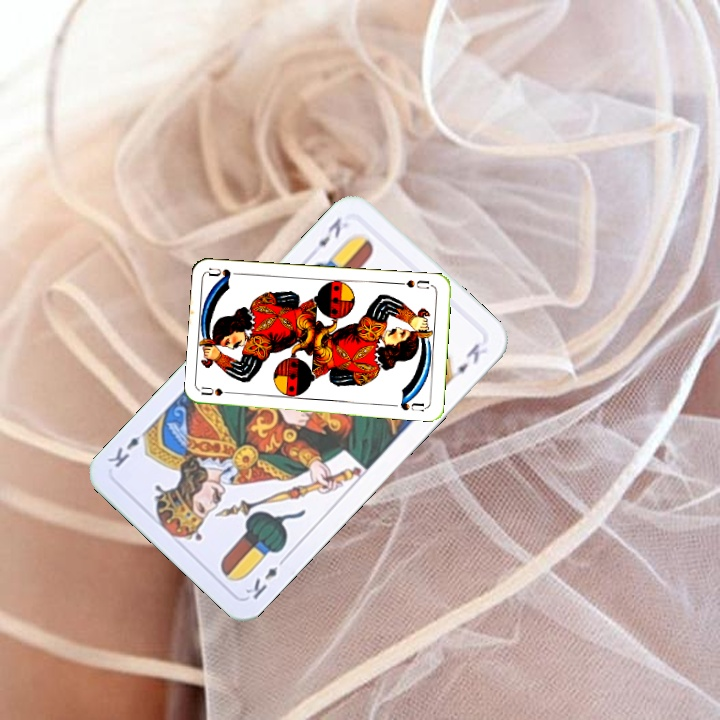EK: (241, 552, 290, 603), (314, 213, 344, 250)
SU: (199, 383, 239, 398), (395, 276, 432, 292)
